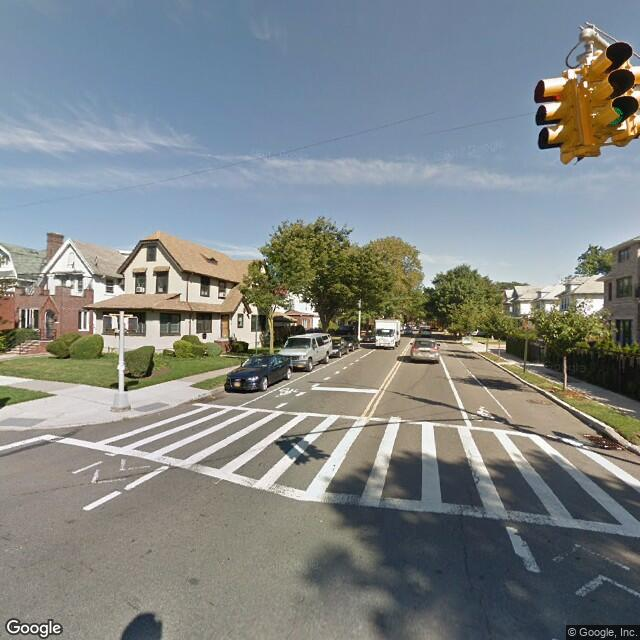litter: (617, 447, 622, 450), (604, 446, 607, 449)
